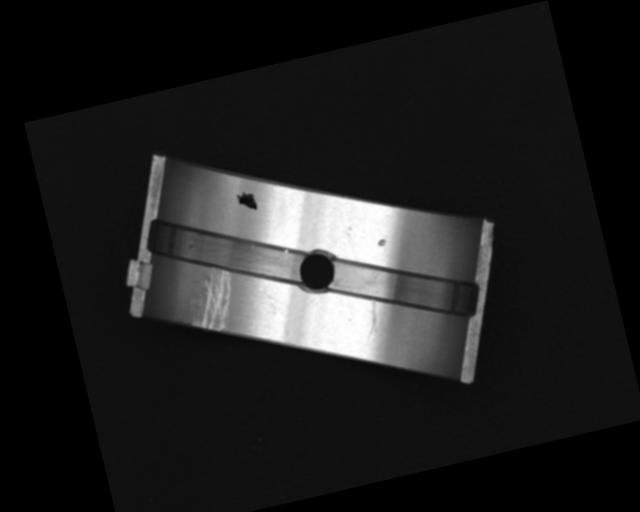blot: (234, 188, 260, 214)
bruise: (376, 237, 387, 246)
gap: (141, 188, 309, 310), (322, 234, 485, 344)
hole: (295, 247, 340, 296)
nick: (358, 299, 385, 342)
scratch: (183, 267, 242, 335)
